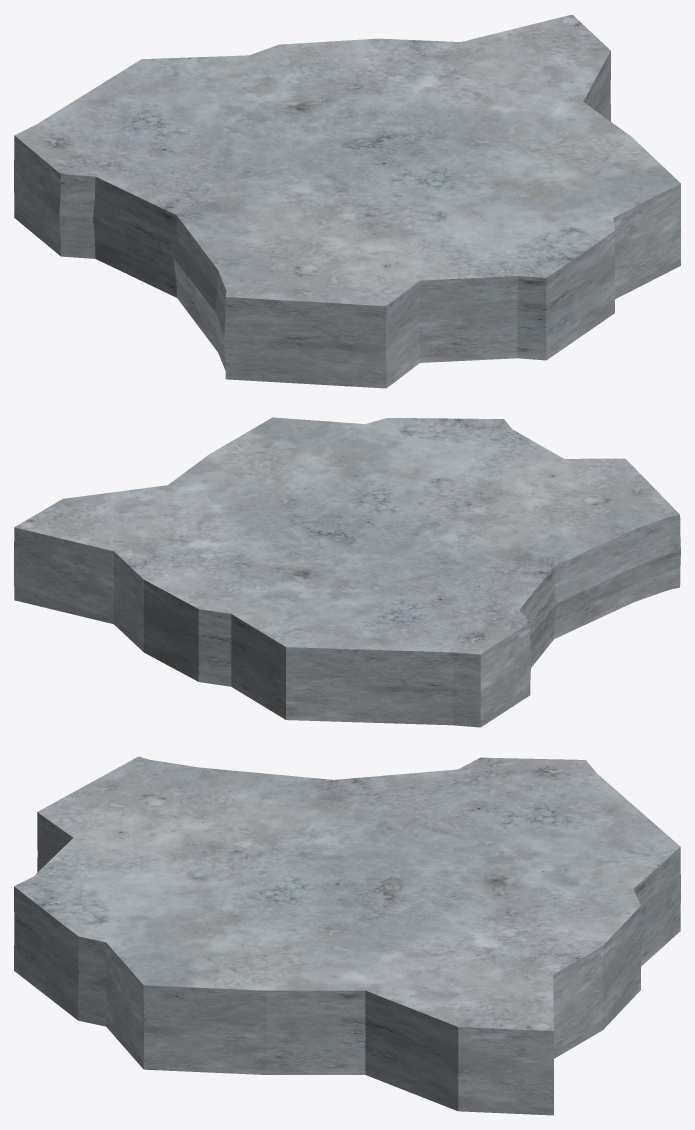
The model's file is PlataformaNormal1.fbx.
The picture shows the model from 3 angles, top to bottom: view 1: azimuth 30°, elevation 25°; view 2: azimuth 150°, elevation 25°; view 3: azimuth 270°, elevation 25°; orthographic projection. The views are drawn at different scales.
Parts seen in each view (by area): view 1: 0_PlataformaNormal2; view 2: 0_PlataformaNormal2; view 3: 0_PlataformaNormal2.
Boxes of the visible parts, bbox=[...] form: 0_PlataformaNormal2: bbox=[14, 14, 680, 388]; 0_PlataformaNormal2: bbox=[14, 417, 680, 727]; 0_PlataformaNormal2: bbox=[14, 756, 680, 1115].
Size of the model in its own units: 3.62 by 0.5175 by 3.71.
Materials: 1 (1 with a texture image).
